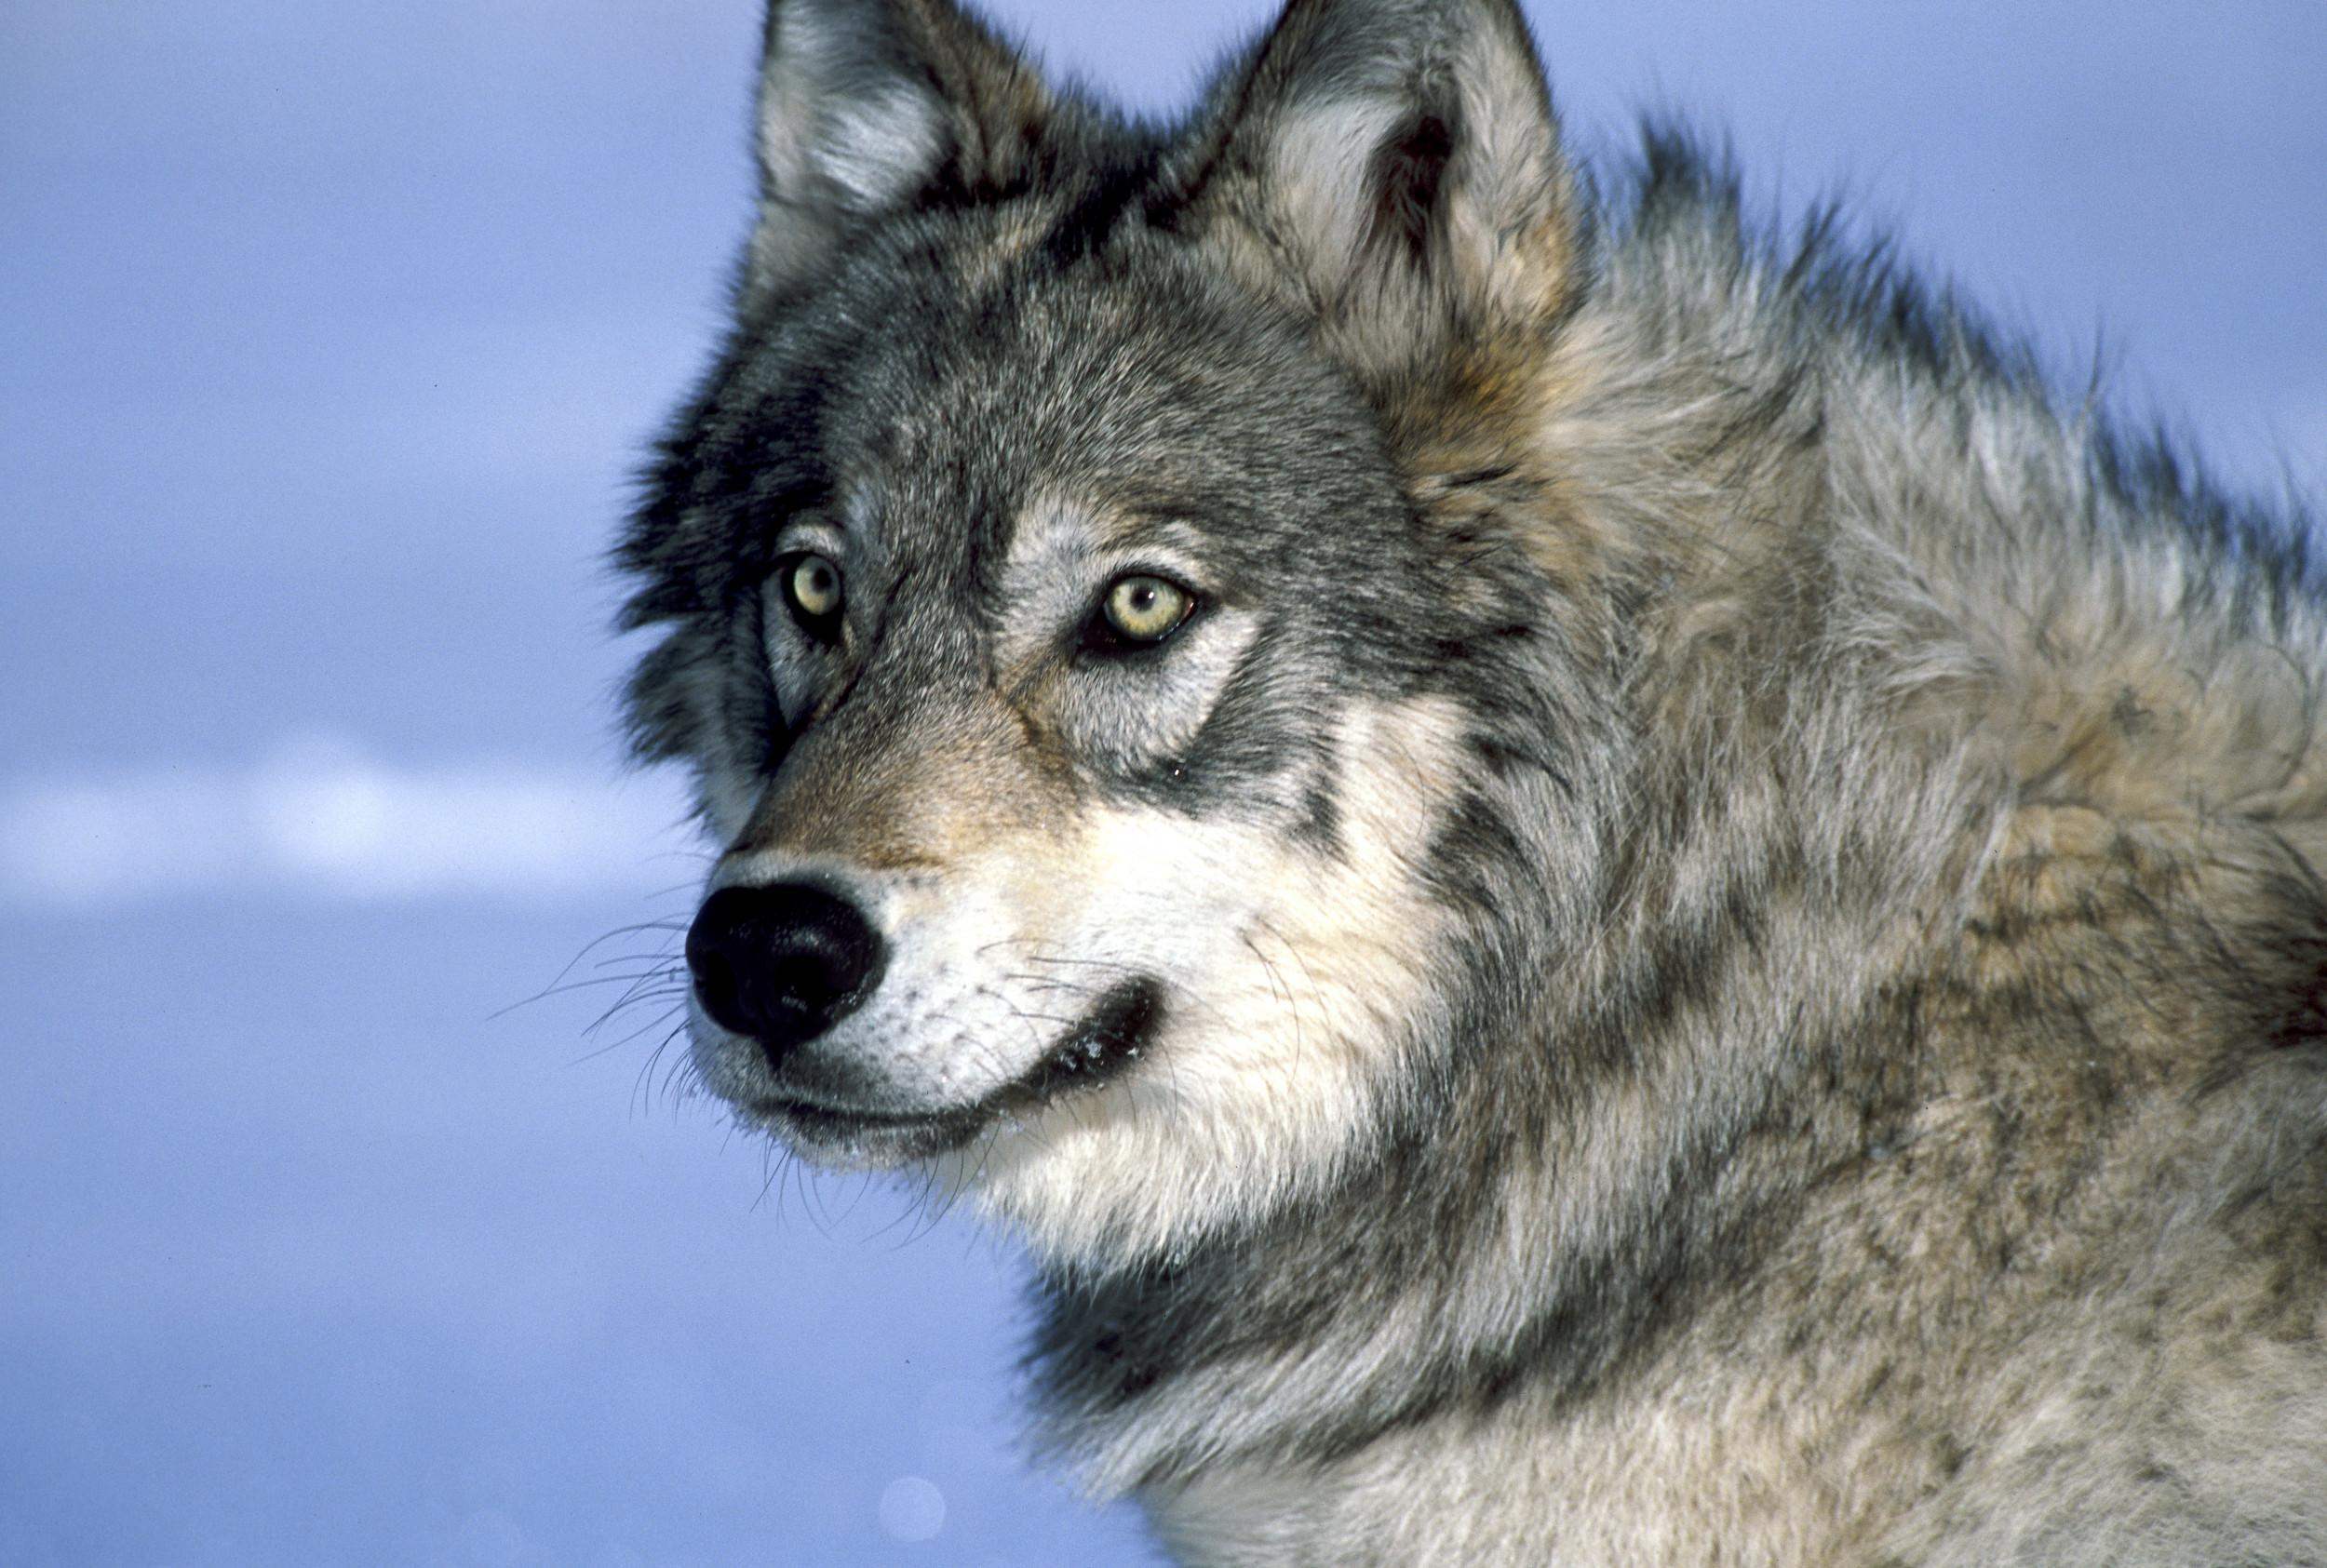Wolf: (588, 0, 2327, 1568)
